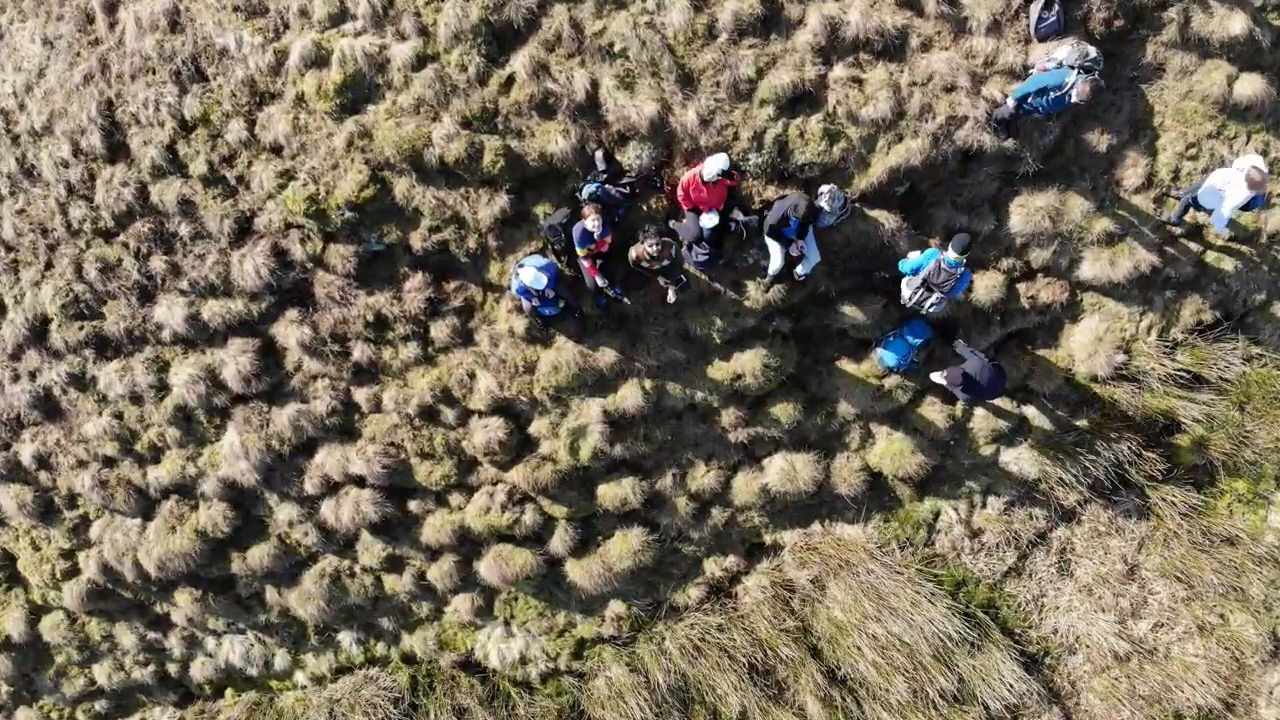insan: (972, 59, 1102, 158), (897, 225, 974, 319), (755, 187, 825, 288), (563, 201, 629, 307), (926, 329, 1003, 416), (501, 243, 566, 317), (630, 221, 680, 296)
